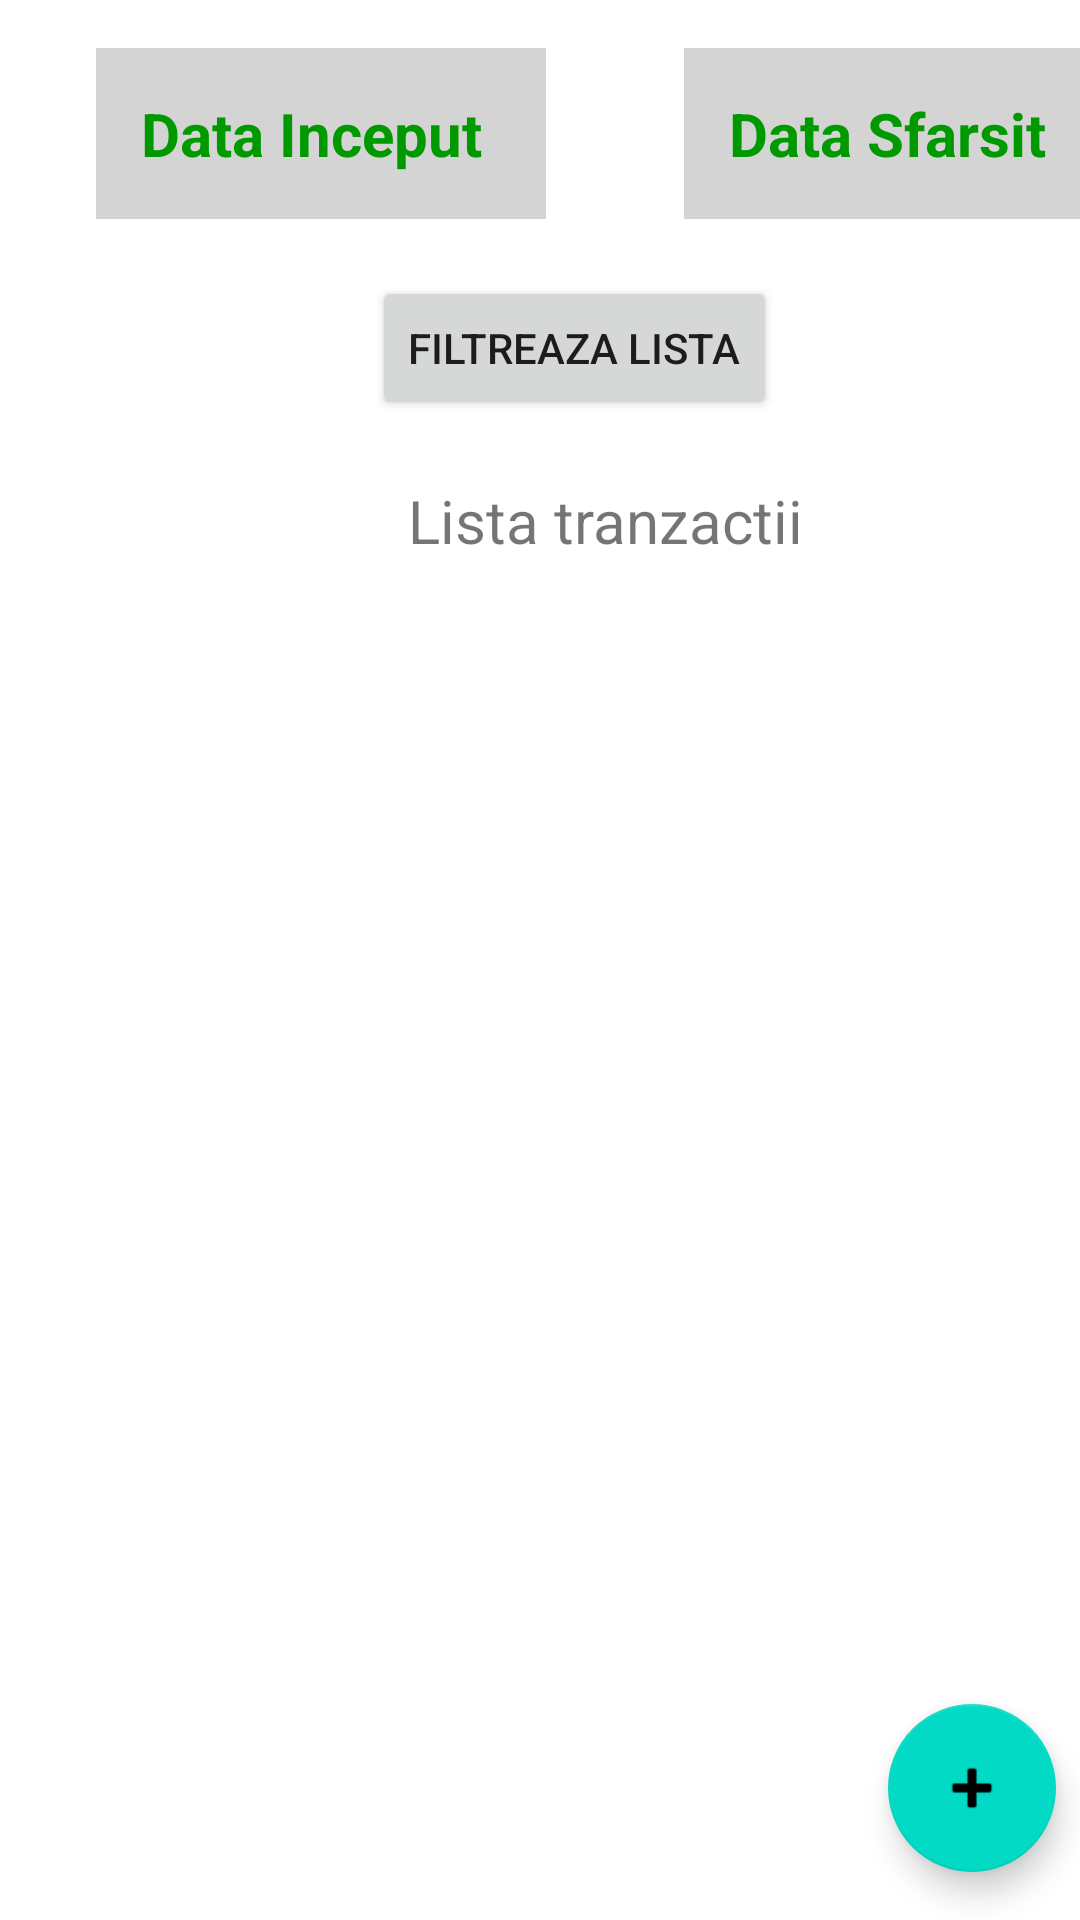

Point at icon controls on the screen. Image size 1080 x 1920, points as [x,y].
add: [972,1788]
